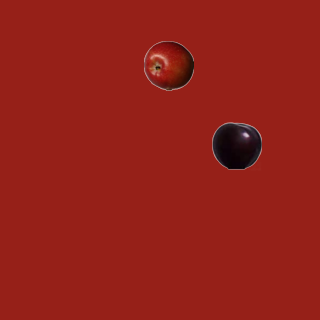Apple Braeburn: (143, 40, 193, 90)
Cherry Wax Black: (211, 120, 261, 170)
